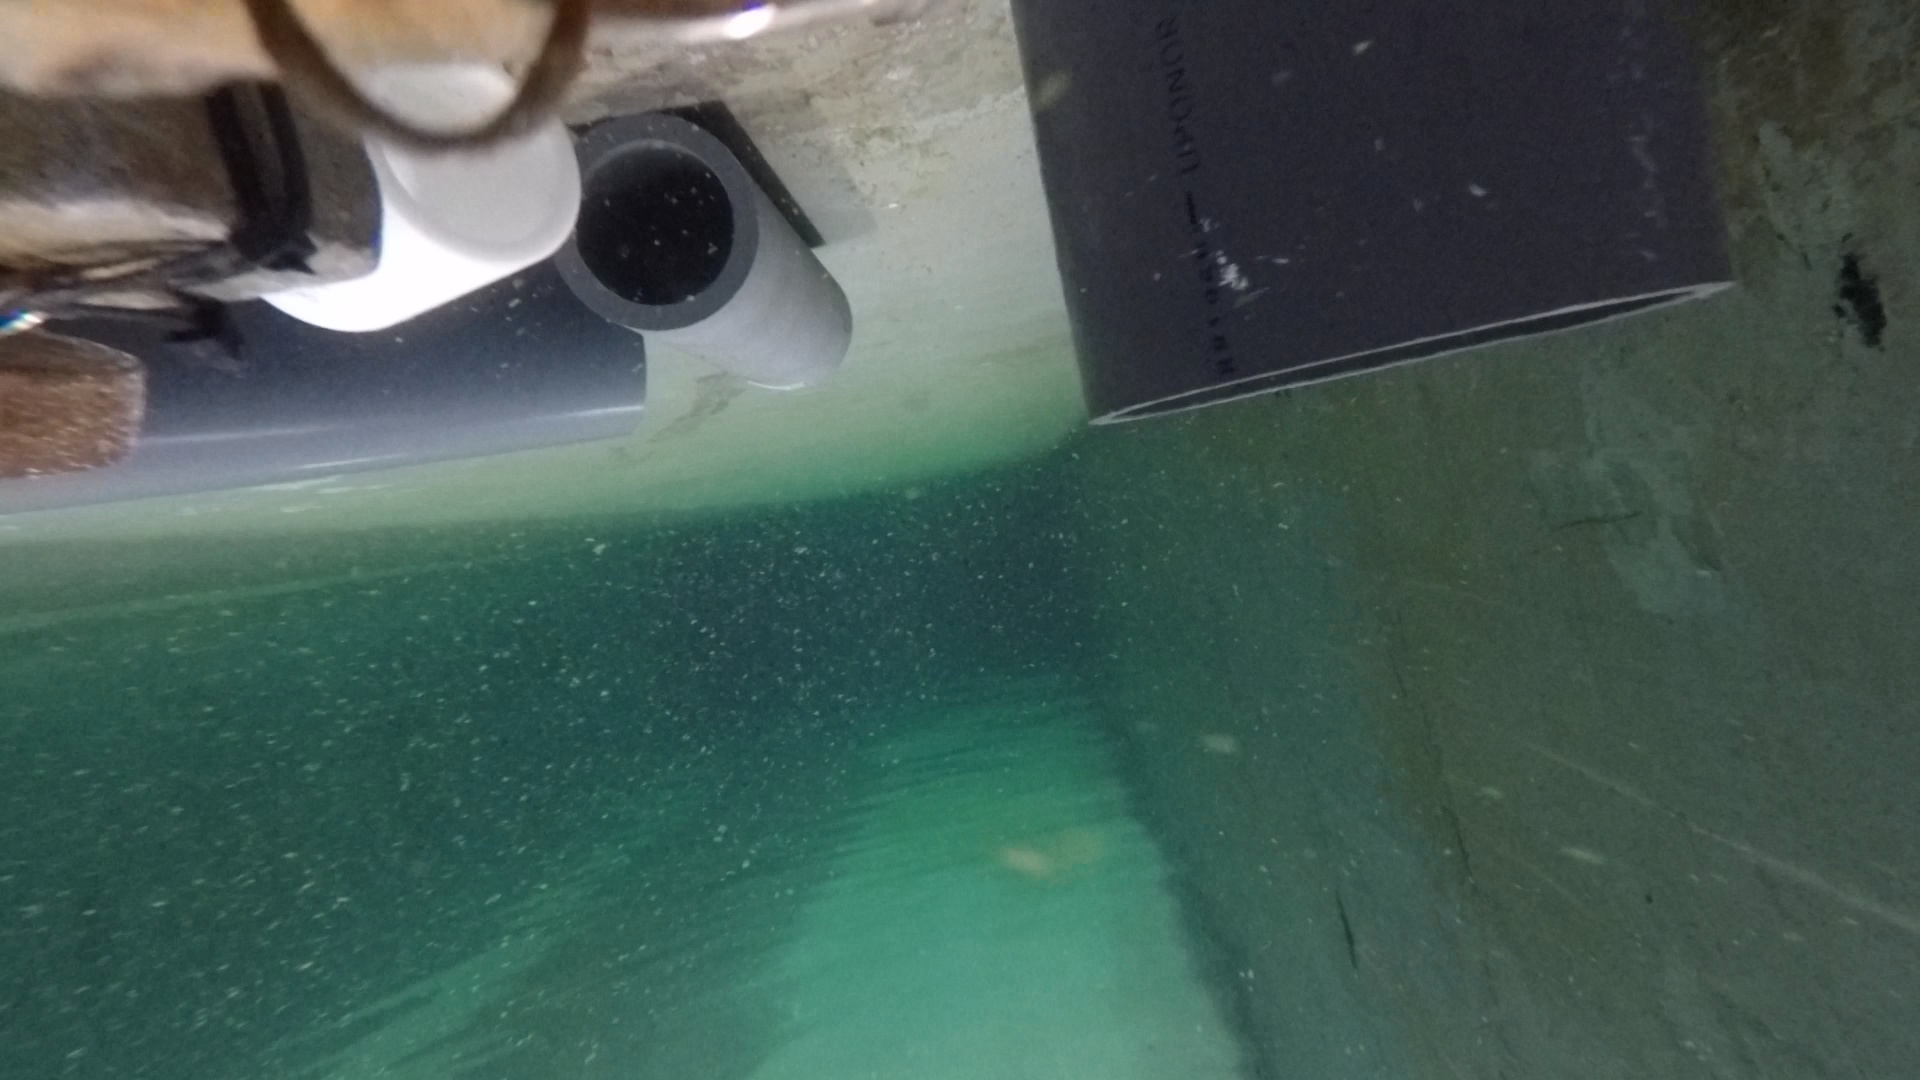led_block: (1, 91, 382, 340), (1, 319, 150, 484)
pipe: (1007, 3, 1733, 426), (1, 257, 649, 514), (257, 65, 582, 336), (546, 111, 855, 394)
